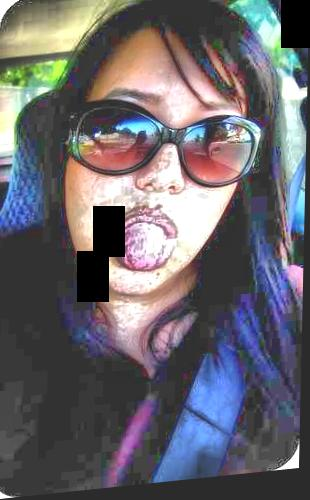seatbelt: (159, 298, 267, 473)
